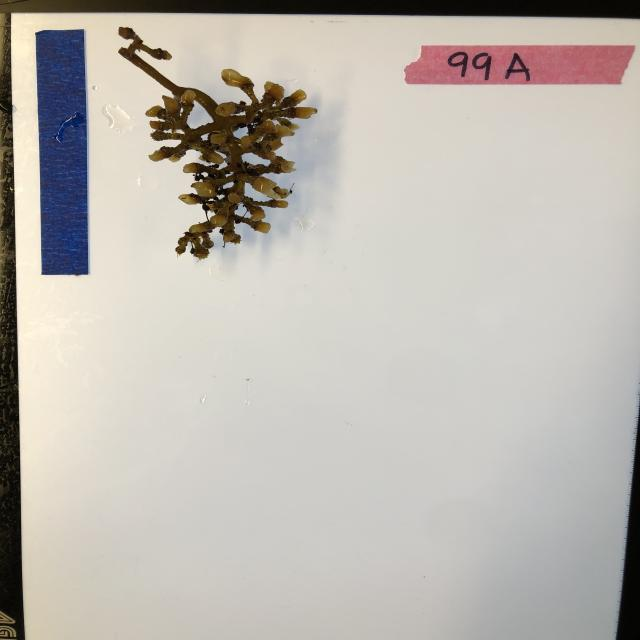index: (402, 43, 637, 86)
measure_label: (37, 28, 90, 276)
rachis_cluster: (113, 26, 319, 260)
